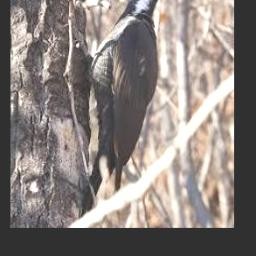Woodpecker: (85, 0, 171, 216)
